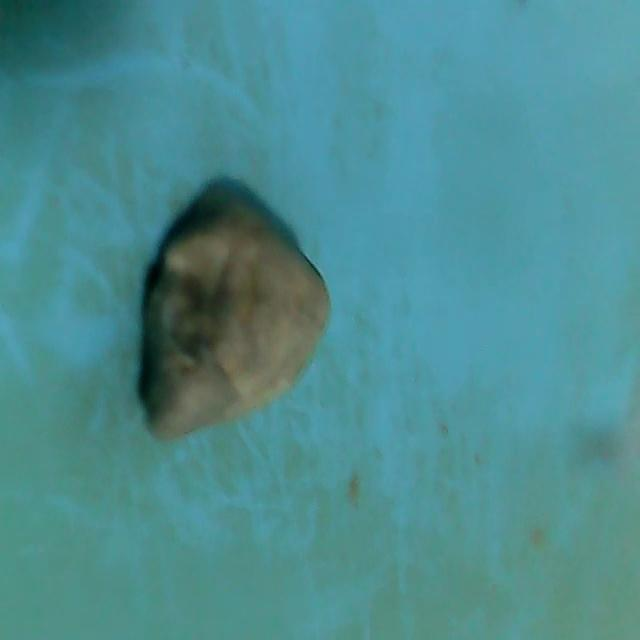rock: (135, 195, 335, 453)
